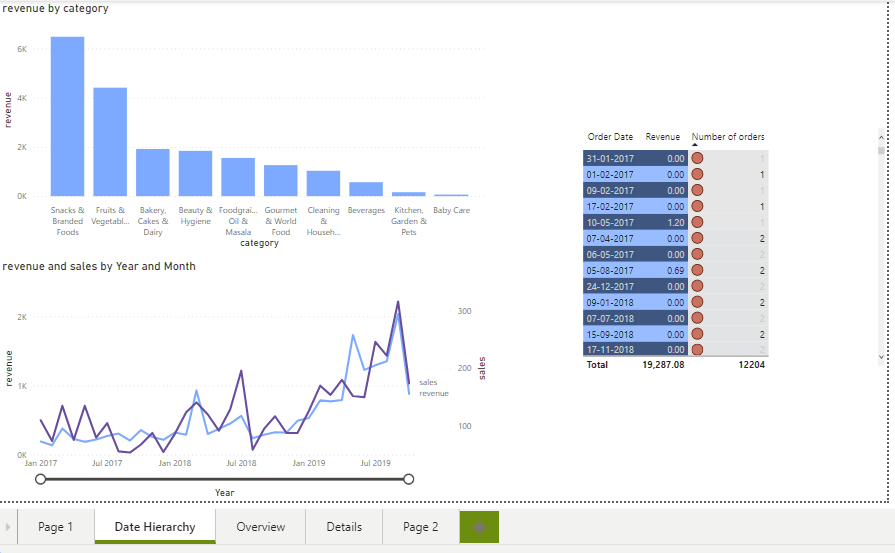

The dashboard page shown, as its layout file describes it:
{"tool":"powerbi","page":{"name":"Date Hierarchy","canvas":[1280,720],"ordinal":1},"visuals":[{"type":"columnChart","fields":{"Y":["Sum(sales2018-2019.revenue)"],"Category":["producthierarchy.category","producthierarchy.sub_category"]},"box":[0,0,706.4,361.2],"z":0},{"type":"lineChart","fields":{"Y":["Sum(sales2018-2019.revenue)"],"Category":["sales2018-2019.Order Date.Variation.Date Hierarchy.Year","sales2018-2019.Order Date.Variation.Date Hierarchy.Month","sales2018-2019.Order Date.Variation.Date Hierarchy.Day"],"Y2":["Sum(sales2018-2019.sales)"]},"box":[0,371.4,706.6,349.2],"z":1000},{"type":"tableEx","fields":{"Values":["sales2018-2019.Order Date","Sum(sales2018-2019.revenue)","CountNonNull(sales2018-2019.order_id)"]},"box":[715.9,0,564.1,360.9],"z":2000}]}

Visuals, with their boxes on the page's 1280x720 design canvas (x1, y1, x2, y2). These are canvas units, not pixel positions in the 895x553 screenshot, which may show the page scaled, cropped or inside an application window:
columnChart - Sum(sales2018-2019.revenue) x producthierarchy.category: 0 0 706 361
lineChart - Sum(sales2018-2019.revenue) x sales2018-2019.Order Date.Variation.Date Hierarchy.Year: 0 371 707 721
tableEx - sales2018-2019.Order Date x Sum(sales2018-2019.revenue): 716 0 1280 361
